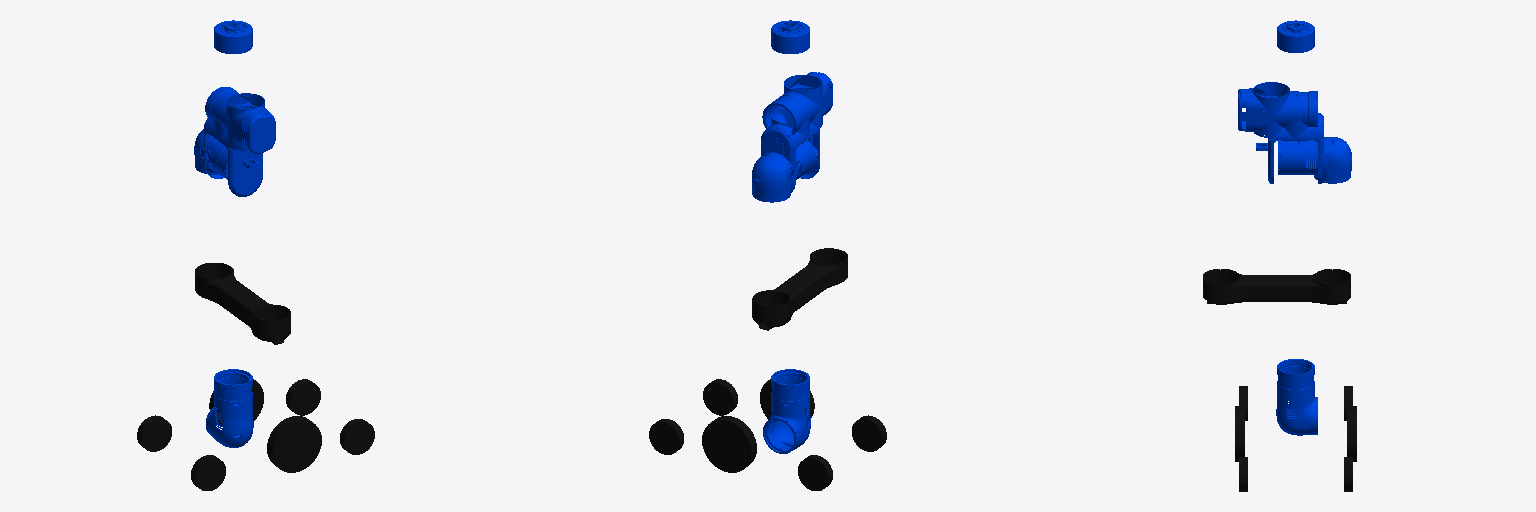
--- Facts derived from the render (not from the file) ---
The picture shows the robot from 3 angles, left to right: view 1: azimuth 30°, elevation 25°; view 2: azimuth 150°, elevation 25°; view 3: azimuth 270°, elevation 25°; orthographic projection.
Robot: relax_xbot2 — 29 links, 28 joints (7 revolute, 10 continuous, 2 prismatic, 9 fixed); root link world; default pose: all joints at 0.
Links seen in each view (by area): view 1: relax_arm1_link2, relax_arm1_link5, relax_arm1_link1, right_wheel_link, relax_arm1_link4, relax_arm1_link6, relax_arm1_link3, br_caster_wheel_link, bl_caster_wheel_link, fl_caster_wheel_link, fr_caster_wheel_link; view 2: relax_arm1_link2, relax_arm1_link1, relax_arm1_link5, left_wheel_link, relax_arm1_link3, relax_arm1_link4, relax_arm1_link6, bl_caster_wheel_link, br_caster_wheel_link, fl_caster_wheel_link, fr_caster_wheel_link; view 3: relax_arm1_link2, relax_arm1_link5, relax_arm1_link1, relax_arm1_link3, relax_arm1_link4, relax_arm1_link6, left_wheel_link, right_wheel_link.
Link boxes in pixels (x1=…): relax_arm1_link2: x1=195, y1=263, x2=290, y2=344; relax_arm1_link5: x1=205, y1=87, x2=275, y2=153; relax_arm1_link1: x1=206, y1=369, x2=253, y2=447; right_wheel_link: x1=267, y1=416, x2=321, y2=472; relax_arm1_link4: x1=203, y1=118, x2=262, y2=196; relax_arm1_link6: x1=214, y1=20, x2=252, y2=53; relax_arm1_link3: x1=194, y1=130, x2=227, y2=179; br_caster_wheel_link: x1=191, y1=455, x2=225, y2=490; bl_caster_wheel_link: x1=137, y1=415, x2=171, y2=451; fl_caster_wheel_link: x1=286, y1=379, x2=320, y2=415; fr_caster_wheel_link: x1=340, y1=419, x2=374, y2=454; relax_arm1_link2: x1=752, y1=248, x2=847, y2=330; relax_arm1_link1: x1=763, y1=369, x2=810, y2=453; relax_arm1_link5: x1=762, y1=72, x2=832, y2=134; left_wheel_link: x1=702, y1=416, x2=756, y2=472; relax_arm1_link3: x1=752, y1=140, x2=815, y2=202; relax_arm1_link4: x1=761, y1=108, x2=819, y2=192; relax_arm1_link6: x1=771, y1=20, x2=809, y2=53; bl_caster_wheel_link: x1=798, y1=455, x2=832, y2=490; br_caster_wheel_link: x1=852, y1=415, x2=886, y2=451; fl_caster_wheel_link: x1=649, y1=419, x2=683, y2=454; fr_caster_wheel_link: x1=703, y1=379, x2=737, y2=415; relax_arm1_link2: x1=1203, y1=269, x2=1350, y2=304; relax_arm1_link5: x1=1238, y1=82, x2=1317, y2=137; relax_arm1_link1: x1=1276, y1=359, x2=1317, y2=435; relax_arm1_link3: x1=1278, y1=137, x2=1351, y2=183; relax_arm1_link4: x1=1256, y1=113, x2=1323, y2=183; relax_arm1_link6: x1=1277, y1=20, x2=1314, y2=52; left_wheel_link: x1=1347, y1=406, x2=1356, y2=461; right_wheel_link: x1=1235, y1=406, x2=1244, y2=461.
Bounding box of the posed robot: 0.7247 × 0.5562 × 1.66 m (x, y, z).
6 mesh visuals loaded from 9 distinct referenced files (6 binary STL); not drawn: 7 (reference not matched to a file when rendering).

URDF robot description (relax_xbot2):
<?xml version="1.0" ?>
<!-- =================================================================================== -->
<!-- |    This document was autogenerated by xacro from [local-path]/src/forest_ws/src/iit-relax-ros-pkg/relax_urdf/urdf/relax_xbot2.urdf.xacro | -->
<!-- |    EDITING THIS FILE BY HAND IS NOT RECOMMENDED                                 | -->
<!-- =================================================================================== -->
<robot name="relax_xbot2">
  <!-- ************SELECT PARTS*************-->
  <!-- *************************************-->
  <!-- color -->
  <material name="darkblue">
    <color rgba="0.0 0.3 0.9 1"/>
  </material>
  <material name="dark">
    <color rgba="0.1 0.1 0.1 1"/>
  </material>
  <!-- ARM -->
  <!-- ARM -->
  <!-- ARM -->
  <!-- ARM -->
  <!-- links -->
  <link name="relax_arm1_link1">
    <!-- link 1 -->
    <inertial>
      <origin xyz="-0.0018991406 0.022645162 0.16741297"/>
      <mass value="6.2381702"/>
      <inertia ixx="0.065816037" ixy="-0.00011791629" ixz="-4.0067927e-05" iyy="0.057828314" iyz="-0.011584403" izz="0.01940196"/>
    </inertial>
    <visual>
      <origin rpy="0 0 0" xyz="0 0 0"/>
      <geometry name="relax_link1_visual">
        <mesh filename="package://relax_urdf/meshes/mesh_link1.stl" scale="0.001 0.001 0.001"/>
      </geometry>
      <material name="darkblue"/>
    </visual>
    <collision>
      <origin rpy="0 0 0" xyz="0 0 0"/>
      <geometry name="relax_link1_collision">
        <mesh filename="package://relax_urdf/meshes/mesh_link1.stl" scale="0.001 0.001 0.001"/>
      </geometry>
    </collision>
  </link>
  <link name="relax_arm1_link2">
    <!-- link 2 -->
    <inertial>
      <origin xyz="-3.1494342e-05 -0.20005579 -0.0057041875"/>
      <mass value="2.601371"/>
      <inertia ixx="0.064570453" ixy="-0.00019926537999999998" ixz="-1.6866045999999998e-06" iyy="0.0051512542" iyz="-2.9627309e-06" izz="0.06672465300000001"/>
    </inertial>
    <visual>
      <origin rpy="0 0 0" xyz="0 0 0"/>
      <geometry name="relax_link2_visual">
        <mesh filename="package://relax_urdf/meshes/mesh_link2.stl" scale="0.001 0.001 0.001"/>
      </geometry>
      <material name="dark"/>
    </visual>
    <collision>
      <origin rpy="0 0 0" xyz="0 0 0"/>
      <geometry name="relax_link2_collision">
        <mesh filename="package://relax_urdf/meshes/mesh_link2.stl" scale="0.001 0.001 0.001"/>
      </geometry>
    </collision>
  </link>
  <link name="relax_arm1_link3">
    <!-- link 3 -->
    <inertial>
      <origin xyz="0.0020858498 -0.078452653 -0.10797347"/>
      <mass value="5.9482803"/>
      <inertia ixx="0.062877846" ixy="0.00011665783" ixz="0.00012931181" iyy="0.018390664" iyz="-0.011034081" izz="0.055056825999999996"/>
    </inertial>
    <visual>
      <origin rpy="0 0 0" xyz="0 0 0"/>
      <geometry name="relax_link3_visual">
        <mesh filename="package://relax_urdf/meshes/mesh_link3.stl" scale="0.001 0.001 0.001"/>
      </geometry>
      <material name="darkblue"/>
    </visual>
    <collision>
      <origin rpy="0 0 0" xyz="0 0 0"/>
      <geometry name="relax_link3_collision">
        <mesh filename="package://relax_urdf/meshes/mesh_link3.stl" scale="0.001 0.001 0.001"/>
      </geometry>
    </collision>
  </link>
  <link name="relax_arm1_link4">
    <!-- link 4 -->
    <inertial>
      <origin xyz="0.00096471566 -0.0042586853 0.046169896"/>
      <mass value="1.6710337"/>
      <inertia ixx="0.017329393999999998" ixy="0.00021094011" ixz="-0.00024511391" iyy="0.010036060999999999" iyz="0.00042230531" izz="0.012350325"/>
    </inertial>
    <visual>
      <origin rpy="0 0 0" xyz="0 0 0"/>
      <geometry name="relax_link4_visual">
        <mesh filename="package://relax_urdf/meshes/mesh_link4.stl" scale="0.001 0.001 0.001"/>
      </geometry>
      <material name="darkblue"/>
    </visual>
    <collision>
      <origin rpy="0 0 0" xyz="0 0 0"/>
      <geometry name="relax_link4_collision">
        <mesh filename="package://relax_urdf/meshes/mesh_link4.stl" scale="0.001 0.001 0.001"/>
      </geometry>
    </collision>
  </link>
  <link name="relax_arm1_link5">
    <!-- link 5 -->
    <inertial>
      <origin xyz="-0.0013991722 0.052618238 -0.08425954199999999"/>
      <mass value="6.181102"/>
      <inertia ixx="0.059736008" ixy="-0.00014975682" ixz="-5.2815066e-05" iyy="0.015244194999999999" iyz="0.0011994937999999999" izz="0.055701504"/>
    </inertial>
    <visual>
      <origin rpy="0 0 0" xyz="0 0 0"/>
      <geometry name="relax_link5_visual">
        <mesh filename="package://relax_urdf/meshes/mesh_link5.stl" scale="0.001 0.001 0.001"/>
      </geometry>
      <material name="darkblue"/>
    </visual>
    <collision>
      <origin rpy="0 0 0" xyz="0 0 0"/>
      <geometry name="relax_link5_collision">
        <mesh filename="package://relax_urdf/meshes/mesh_link5.stl" scale="0.001 0.001 0.001"/>
      </geometry>
    </collision>
  </link>
  <link name="relax_arm1_link6">
    <!-- link 6 -->
    <inertial>
      <origin xyz="0.0005687903199999999 0.0 0.0022653642000000002"/>
      <mass value="0.48141935"/>
      <inertia ixx="0.0008220642" ixy="1.0675057e-07" ixz="3.5319177e-07" iyy="0.00083596992" iyz="0.0" izz="0.0012890535"/>
    </inertial>
    <visual>
      <origin rpy="0 0 0" xyz="0 0 0"/>
      <geometry name="relax_link6_visual">
        <mesh filename="package://relax_urdf/meshes/mesh_link6.stl" scale="0.001 0.001 0.001"/>
      </geometry>
      <material name="darkblue"/>
    </visual>
    <collision>
      <origin rpy="0 0 0" xyz="0 0 0"/>
      <geometry name="relax_link6_collision">
        <mesh filename="package://relax_urdf/meshes/mesh_link6.stl" scale="0.001 0.001 0.001"/>
      </geometry>
    </collision>
  </link>
  <link name="relax_arm1_linkEndEffector"/>
  <!-- link End-Effector -->
  <!-- joints -->
  <joint name="relax_arm1_joint0" type="revolute">
    <!-- joint 1 -->
    <parent link="base_link"/>
    <child link="relax_arm1_link1"/>
    <origin rpy="0.0 0.0 0.0" xyz="-0.13 0.0 0.3613"/>
    <axis xyz="0 0 1"/>
    <limit effort="147.0" lower="-3.14" upper="3.14" velocity="3.86"/>
    <dynamics damping="0.2" friction="10.0"/>
  </joint>
  <joint name="relax_arm1_joint1" type="revolute">
    <!-- joint 1 -->
    <parent link="relax_arm1_link1"/>
    <child link="relax_arm1_link2"/>
    <origin rpy="-1.5707963 0.0 0.0" xyz="0.0 0.13166 0.24966"/>
    <axis xyz="0 0 1"/>
    <limit effort="147.0" lower="-3.14" upper="3.14" velocity="3.86"/>
    <dynamics damping="0.2" friction="10.0"/>
  </joint>
  <joint name="relax_arm1_joint2" type="revolute">
    <!-- joint 2 -->
    <parent link="relax_arm1_link2"/>
    <child link="relax_arm1_link3"/>
    <origin rpy="0.0 0.0 0.0" xyz="0.0 -0.4 0.0"/>
    <axis xyz="0 0 1"/>
    <limit effort="147.0" lower="-3.14" upper="3.14" velocity="3.86"/>
    <dynamics damping="0.2" friction="10.0"/>
  </joint>
  <joint name="relax_arm1_joint3" type="revolute">
    <!-- joint 3 -->
    <parent link="relax_arm1_link3"/>
    <child link="relax_arm1_link4"/>
    <origin rpy="1.5707963 0.0 0.0" xyz="0.0 -0.24966 -0.13166"/>
    <axis xyz="0 0 1"/>
    <limit effort="147.0" lower="-3.14" upper="3.14" velocity="3.86"/>
    <dynamics damping="0.2" friction="10.0"/>
  </joint>
  <joint name="relax_arm1_joint4" type="revolute">
    <!-- joint 4 -->
    <parent link="relax_arm1_link4"/>
    <child link="relax_arm1_link5"/>
    <origin rpy="1.5707963 0.0 0.0" xyz="0.0 -0.08816 0.1535"/>
    <axis xyz="0 0 1"/>
    <limit effort="147.0" lower="-3.14" upper="3.14" velocity="3.86"/>
    <dynamics damping="0.2" friction="10.0"/>
  </joint>
  <joint name="relax_arm1_joint5" type="revolute">
    <!-- joint 5 -->
    <parent link="relax_arm1_link5"/>
    <child link="relax_arm1_link6"/>
    <origin rpy="-1.5707963 0.0 0.0" xyz="0.0 0.22216 -0.08816"/>
    <axis xyz="0 0 1"/>
    <limit effort="147.0" lower="-3.14" upper="3.14" velocity="3.86"/>
    <dynamics damping="0.2" friction="10.0"/>
  </joint>
  <joint name="relax_arm1_joint6" type="fixed">
    <!-- joint 6 fake -->
    <parent link="relax_arm1_link6"/>
    <child link="relax_arm1_linkEndEffector"/>
    <origin rpy="0.0 0.0 0.0" xyz="0.0 0.0 0.028"/>
    <axis xyz="0 0 1"/>
    <limit effort="147.0" lower="-3.14" upper="3.14" velocity="3.86"/>
    <dynamics damping="0.2" friction="10.0"/>
  </joint>
  <!-- end_effector attached -->
  <!-- <xacro:if value="${ADD_END_EFFECTOR}">
      <xacro:include filename="$(find relax_urdf)/urdf/parts/end_effector.urdf.xacro" />

      <xacro:end_effector arm_num="1"  parent_link="arm1_7">
                  <origin xyz="0. 0. 0." rpy="0. 0. 0."/>
      </xacro:end_effector>

      <xacro:end_effector arm_num="2"  parent_link="arm2_7">
                  <origin xyz="0. 0. 0." rpy="0. 0. 0."/>
      </xacroend_effector>
</xacro:if> -->
  <link name="base_footprint"/>
  <joint name="base_joint" type="fixed">
    <parent link="base_footprint"/>
    <child link="base_link"/>
    <origin rpy="0 0 0" xyz="0 0 0"/>
  </joint>
  <link name="base_link">
    <inertial>
      <mass value="97.0"/>
      <origin rpy="0 0 0" xyz="-0.054485000000000006 0.0 0.15"/>
      <inertia ixx="1.050832913" ixy="0.0" ixz="0.0" iyy="2.344165729" iyz="0.0" izz="2.7483322339999994"/>
    </inertial>
    <visual>
      <origin rpy="0 0 0" xyz="-0.004485 0 0"/>
      <geometry>
        <mesh filename="package://relax_urdf/meshes/mesh_base_revised.stl" scale="0.001 0.001 0.001"/>
      </geometry>
      <material name="dark_grey">
        <color rgba="0.3 0.3 0.3 1"/>
      </material>
    </visual>
    <collision>
      <origin rpy="0 0 0" xyz="-0.004485 0 0"/>
      <geometry>
        <mesh filename="package://relax_urdf/meshes/mesh_base_revised.stl" scale="0.001 0.001 0.001"/>
      </geometry>
    </collision>
  </link>
  <gazebo reference="base_link">
    <material>Gazebo/DarkGrey</material>
  </gazebo>
  <!-- IMU -->
  <joint name="base_link_to_imu_joint" type="fixed">
    <parent link="base_link"/>
    <child link="imu_link"/>
    <origin rpy="0 0 0" xyz="0.0 0.0 0.25"/>
    <!-- same as real MiR -->
  </joint>
  <link name="imu_link"/>
  <gazebo>
    <plugin filename="libhector_gazebo_ros_imu.so" name="imu_plugin">
      <updateRate>50.0</updateRate>
      <bodyName>imu_link</bodyName>
      <frameId>imu_frame</frameId>
      <!-- from real MiR -->
      <topicName>imu_data</topicName>
      <accelDrift>0.0 0.0 0.0</accelDrift>
      <accelGaussianNoise>0.007071067811865475 0.01 0.011401754250991379</accelGaussianNoise>
      <!-- real MiR linear_acceleration_covariance: [5e-05, 0.0, 0.0, 0.0, 0.0001, 0.0, 0.0, 0.0, 0.00013] -->
      <rateDrift>0.0 0.0 0.0</rateDrift>
      <rateGaussianNoise>0.00282842712474619 0.00282842712474619 0.0005477225575051661</rateGaussianNoise>
      <!-- real MiR angular_velocity_covariance: [8e-06, 0.0, 0.0, 0.0, 8e-06, 0.0, 0.0, 0.0, 3e-07] -->
      <yawDrift>0.0</yawDrift>
      <yawGaussianNoise>0.31622776601683794</yawGaussianNoise>
      <!-- real MiR orientation_covariance: [0.1, 0.0, 0.0, 0.0, 0.1, 0.0, 0.0, 0.0, 0.1] -->
    </plugin>
  </gazebo>
  <!-- Create an alias for imu_link. This is necessary because the real MiR's
         TF has imu_link, but the imu_data topic is published in the imu_frame
         frame. -->
  <joint name="imu_link_to_imu_frame_joint" type="fixed">
    <parent link="imu_link"/>
    <child link="imu_frame"/>
    <origin rpy="0 0 0" xyz="0 0 0"/>
  </joint>
  <link name="imu_frame"/>
  <!-- Laser scanners -->
  <joint name="base_link_to_front_laser_joint" type="fixed">
    <parent link="base_link"/>
    <child link="front_laser_link"/>
    <origin rpy="0.0 0.0 0.7853981633974483" xyz="0.310515 0.205 0.1914"/>
  </joint>
  <link name="front_laser_link">
    <visual>
      <origin rpy="3.141592653589793 0 0" xyz="0.0 0.0 0.0"/>
      <geometry>
        <mesh filename="package://relax_urdf/meshes/sick_lms-100.stl"/>
      </geometry>
      <!-- <xacro:insert_block name="material_yellow" /> -->
      <material name="black">
        <color rgba="0.1 0.1 0.1 1"/>
      </material>
    </visual>
    <collision>
      <origin rpy="3.141592653589793 0 0" xyz="0.0 0.0 0.0"/>
      <geometry>
        <mesh filename="package://relax_urdf/meshes/sick_lms-100.stl"/>
      </geometry>
    </collision>
    <inertial>
      <mass value="1.2"/>
      <origin xyz="0 0 0"/>
      <inertia ixx="0.005824997669999999" ixy="0.0" ixz="0.0" iyy="0.00585609765756" iyz="0.0" izz="0.00483609806556"/>
    </inertial>
  </link>
  <gazebo reference="front_laser_link">
    <!-- <material value="Gazebo/Yellow" /> -->
    <material value="Gazebo/FlatBlack"/>
    <sensor name="front_laser_link" type="ray">
      <pose>0 0 0 0 0 0</pose>
      <visualize>false</visualize>
      <update_rate>12.5</update_rate>
      <ray>
        <scan>
          <horizontal>
            <samples>541</samples>
            <resolution>1</resolution>
            <!-- has to be 1; actual resolution will be computed from number of samples + min_angle/max_angle -->
            <min_angle>-2.35619449615</min_angle>
            <max_angle>2.35619449615</max_angle>
          </horizontal>
        </scan>
        <range>
          <min>0.05</min>
          <max>29.0</max>
          <resolution>0.01</resolution>
        </range>
        <noise>
          <type>gaussian</type>
          <!-- Noise parameters based on published spec for S300 achieving
                 "+-29mm" accuracy at range < 3m (~0.01 of the range) at
                 1 sigma. -->
          <mean>0.0</mean>
          <stddev>0.01</stddev>
        </noise>
      </ray>
      <plugin filename="libgazebo_ros_laser.so" name="gazebo_ros_front_laser_link_controller">
        <frameName>front_laser_link</frameName>
        <topicName>f_scan</topicName>
      </plugin>
    </sensor>
  </gazebo>
  <joint name="base_link_to_back_laser_joint" type="fixed">
    <parent link="base_link"/>
    <child link="back_laser_link"/>
    <origin rpy="0.0 0.0 -2.356194490192345" xyz="-0.319485 -0.205 0.1914"/>
  </joint>
  <link name="back_laser_link">
    <visual>
      <origin rpy="3.141592653589793 0 0" xyz="0.0 0.0 0.0"/>
      <geometry>
        <mesh filename="package://relax_urdf/meshes/sick_lms-100.stl"/>
      </geometry>
      <!-- <xacro:insert_block name="material_yellow" /> -->
      <material name="black">
        <color rgba="0.1 0.1 0.1 1"/>
      </material>
    </visual>
    <collision>
      <origin rpy="3.141592653589793 0 0" xyz="0.0 0.0 0.0"/>
      <geometry>
        <mesh filename="package://relax_urdf/meshes/sick_lms-100.stl"/>
      </geometry>
    </collision>
    <inertial>
      <mass value="1.2"/>
      <origin xyz="0 0 0"/>
      <inertia ixx="0.005824997669999999" ixy="0.0" ixz="0.0" iyy="0.00585609765756" iyz="0.0" izz="0.00483609806556"/>
    </inertial>
  </link>
  <gazebo reference="back_laser_link">
    <!-- <material value="Gazebo/Yellow" /> -->
    <material value="Gazebo/FlatBlack"/>
    <sensor name="back_laser_link" type="ray">
      <pose>0 0 0 0 0 0</pose>
      <visualize>false</visualize>
      <update_rate>12.5</update_rate>
      <ray>
        <scan>
          <horizontal>
            <samples>541</samples>
            <resolution>1</resolution>
            <!-- has to be 1; actual resolution will be computed from number of samples + min_angle/max_angle -->
            <min_angle>-2.35619449615</min_angle>
            <max_angle>2.35619449615</max_angle>
          </horizontal>
        </scan>
        <range>
          <min>0.05</min>
          <max>29.0</max>
          <resolution>0.01</resolution>
        </range>
        <noise>
          <type>gaussian</type>
          <!-- Noise parameters based on published spec for S300 achieving
                 "+-29mm" accuracy at range < 3m (~0.01 of the range) at
                 1 sigma. -->
          <mean>0.0</mean>
          <stddev>0.01</stddev>
        </noise>
      </ray>
      <plugin filename="libgazebo_ros_laser.so" name="gazebo_ros_back_laser_link_controller">
        <frameName>back_laser_link</frameName>
        <topicName>b_scan</topicName>
      </plugin>
    </sensor>
  </gazebo>
  <!-- Ultrasound sensors -->
  <joint name="us_1_joint" type="fixed">
    <!-- right ultrasound -->
    <parent link="base_link"/>
    <child link="us_1_frame"/>
    <origin rpy="0 0 0" xyz="0.45 -0.12 0.16 "/>
    <!-- from visually matching to the mesh of the MiR -->
  </joint>
  <link name="us_1_frame"/>
  <joint name="us_2_joint" type="fixed">
    <!-- left ultrasound -->
    <parent link="base_link"/>
    <child link="us_2_frame"/>
    <origin rpy="0 0 0" xyz="0.45 0.12 0.16 "/>
    <!-- from visually matching to the mesh of the MiR -->
  </joint>
  <link name="us_2_frame"/>
  <!-- HACK: manually defining fake joints for cartesian control -->
  <link name="world"/>
  <joint name="lin_x_joint" type="prismatic">
    <parent link="world"/>
    <child link="lin_x_link"/>
    <limit effort="100" lower="-1e9" upper="1e9" velocity="2"/>
    <axis xyz="1 0 0"/>
  </joint>
  <joint name="lin_y_joint" type="prismatic">
    <parent link="lin_x_link"/>
    <child link="lin_y_link"/>
    <limit effort="100" lower="-1e9" upper="1e9" velocity="2"/>
    <axis xyz="0 1 0"/>
  </joint>
  <joint name="rot_z_joint" type="revolute">
    <parent link="lin_y_link"/>
    <child link="base_footprint"/>
    <limit effort="100" lower="-1e9" upper="1e9" velocity="2"/>
    <axis xyz="0 0 1"/>
  </joint>
  <link name="lin_x_link">
    <inertial>
      <mass value="0.01"/>
      <origin xyz="0 0 0"/>
      <inertia ixx="0.0001" ixy="0.0" ixz="0.0" iyy="0.0001" iyz="0.0" izz="0.0001"/>
    </inertial>
  </link>
  <link name="lin_y_link">
    <inertial>
      <mass value="0.01"/>
      <origin xyz="0 0 0"/>
      <inertia ixx="0.0001" ixy="0.0" ixz="0.0" iyy="0.0001" iyz="0.0" izz="0.0001"/>
    </inertial>
  </link>
  <joint name="left_wheel_joint" type="continuous">
    <origin rpy="0 0 0" xyz="0.0 0.2015 0.1"/>
    <parent link="base_link"/>
    <child link="left_wheel_link"/>
    <axis xyz="0 1 0"/>
    <limit effort="100" velocity="20.0"/>
  </joint>
  <link name="left_wheel_link">
    <inertial>
      <mass value="1.0"/>
      <origin rpy="0 0 0" xyz="0 0 0"/>
      <inertia ixx="0.0026203322852000007" ixy="0.0" ixz="0.0" iyy="0.0026203322852000007" iyz="0.0" izz="0.005000000000000001"/>
    </inertial>
    <visual>
      <origin rpy="1.5707963267948966 0 0" xyz="0 0 0"/>
      <geometry>
        <cylinder length="0.038" radius="0.1"/>
      </geometry>
      <material name="black">
        <color rgba="0.1 0.1 0.1 1"/>
      </material>
    </visual>
    <collision>
      <origin rpy="1.5707963267948966 0 0" xyz="0 0 0"/>
      <geometry>
        <cylinder length="0.038" radius="0.1"/>
      </geometry>
    </collision>
  </link>
  <gazebo reference="left_wheel_link">
    <material>Gazebo/FlatBlack</material>
  </gazebo>
  <joint name="right_wheel_joint" type="continuous">
    <origin rpy="0 0 0" xyz="0.0 -0.2015 0.1"/>
    <parent link="base_link"/>
    <child link="right_wheel_link"/>
    <axis xyz="0 1 0"/>
    <limit effort="100" velocity="20.0"/>
  </joint>
  <link name="right_wheel_link">
    <inertial>
      <mass value="1.0"/>
      <origin rpy="0 0 0" xyz="0 0 0"/>
      <inertia ixx="0.0026203322852000007" ixy="0.0" ixz="0.0" iyy="0.0026203322852000007" iyz="0.0" izz="0.005000000000000001"/>
    </inertial>
    <visual>
      <origin rpy="1.5707963267948966 0 0" xyz="0 0 0"/>
      <geometry>
        <cylinder length="0.038" radius="0.1"/>
      </geometry>
      <material name="black">
        <color rgba="0.1 0.1 0.1 1"/>
      </material>
    </visual>
    <collision>
      <origin rpy="1.5707963267948966 0 0" xyz="0 0 0"/>
      <geometry>
        <cylinder length="0.038" radius="0.1"/>
      </geometry>
    </collision>
  </link>
  <gazebo reference="right_wheel_link">
    <material>Gazebo/FlatBlack</material>
  </gazebo>
  <!-- caster hub -->
  <joint name="fl_caster_rotation_joint" type="continuous">
    <origin rpy="0 0 0" xyz="0.299215 0.188 0.1565"/>
    <parent link="base_link"/>
    <child link="fl_caster_rotation_link"/>
    <axis xyz="0 0 1"/>
    <dynamics damping="0.01" friction="0.0"/>
  </joint>
  <link name="fl_caster_rotation_link">
    <inertial>
      <!-- <origin xyz="0 0 -0.042500000044" rpy="${0.5 * pi} ${24 * deg_to_rad} ${1.5 * pi}" /> -->
      <origin rpy="0 0 0" xyz="0 0 -0.042500000044"/>
      <!-- ${24 * deg_to_rad} 0 ${0.5 * pi} -->
      <mass value="0.3097539019"/>
      <inertia ixx="0.0005844517978" ixy="0" ixz="0" iyy="0.00052872551237" iyz="0" izz="0.00017923555074"/>
    </inertial>
    <visual>
      <origin rpy="0 0 0" xyz="0 0 0"/>
      <geometry>
        <mesh filename="package://relax_urdf/meshes/caster_wheel_base.stl"/>
      </geometry>
      <material name="black">
        <color rgba="0.1 0.1 0.1 1"/>
      </material>
    </visual>
    <collision>
      <origin rpy="0 0 0" xyz="0 0 0"/>
      <geometry>
        <mesh filename="package://relax_urdf/meshes/caster_wheel_base.stl"/>
      </geometry>
    </collision>
  </link>
  <gazebo reference="fl_caster_rotation_link">
    <material>Gazebo/FlatBlack</material>
  </gazebo>
  <!-- caster wheel -->
  <joint name="fl_caster_wheel_joint" type="continuous">
    <origin rpy="0 0 0" xyz="-0.0382 0 -0.094"/>
    <parent link="fl_caster_rotation_link"/>
    <child link="fl_caster_wheel_link"/>
    <axis xyz="0 1 0"/>
  </joint>
  <link name="fl_caster_wheel_link">
    <inertial>
      <mass value="1.0"/>
      <origin rpy="0 0 0" xyz="0 0 0"/>
      <inertia ixx="0.001061895408575" ixy="0.0" ixz="0.0" iyy="0.001061895408575" iyz="0.0" izz="0.001953125"/>
    </inertial>
    <visual>
      <origin rpy="1.5707963267948966 0 0" xyz="0 0 0"/>
      <!--${pi/2} 0 0 -->
      <geometry>
        <cylinder length="0.032" radius="0.0625"/>
      </geometry>
      <material name="black">
        <color rgba="0.1 0.1 0.1 1"/>
      </material>
    </visual>
    <collision>
      <origin rpy="1.5707963267948966 0 0" xyz="0 0 0"/>
      <!--${pi/2} 0 0 -->
      <geometry>
        <cylinder length="0.032" radius="0.0625"/>
      </geometry>
    </collision>
  </link>
  <gazebo reference="fl_caster_wheel_link">
    <material>Gazebo/FlatBlack</material>
  </gazebo>
  <!-- caster hub -->
  <joint name="fr_caster_rotation_joint" type="continuous">
    <origin rpy="0 0 0" xyz="0.299215 -0.188 0.1565"/>
    <parent link="base_link"/>
    <child link="fr_caster_rotation_link"/>
    <axis xyz="0 0 1"/>
    <dynamics damping="0.01" friction="0.0"/>
  </joint>
  <link name="fr_caster_rotation_link">
    <inertial>
      <!-- <origin xyz="0 0 -0.042500000044" rpy="${0.5 * pi} ${24 * deg_to_rad} ${1.5 * pi}" /> -->
      <origin rpy="0 0 0" xyz="0 0 -0.042500000044"/>
      <!-- ${24 * deg_to_rad} 0 ${0.5 * pi} -->
      <mass value="0.3097539019"/>
      <inertia ixx="0.0005844517978" ixy="0" ixz="0" iyy="0.00052872551237" iyz="0" izz="0.00017923555074"/>
    </inertial>
    <visual>
      <origin rpy="0 0 0" xyz="0 0 0"/>
      <geometry>
        <mesh filename="package://relax_urdf/meshes/caster_wheel_base.stl"/>
      </geometry>
      <material name="black">
        <color rgba="0.1 0.1 0.1 1"/>
      </material>
    </visual>
    <collision>
      <origin rpy="0 0 0" xyz="0 0 0"/>
      <geometry>
        <mesh filename="package://relax_urdf/meshes/caster_wheel_base.stl"/>
      </geometry>
    </collision>
  </link>
  <gazebo reference="fr_caster_rotation_link">
    <material>Gazebo/FlatBlack</material>
  </gazebo>
  <!-- caster wheel -->
  <joint name="fr_caster_wheel_joint" type="continuous">
    <origin rpy="0 0 0" xyz="-0.0382 0 -0.094"/>
    <parent link="fr_caster_rotation_link"/>
    <child link="fr_caster_wheel_link"/>
    <axis xyz="0 1 0"/>
  </joint>
  <link name="fr_caster_wheel_link">
    <inertial>
      <mass value="1.0"/>
      <origin rpy="0 0 0" xyz="0 0 0"/>
      <inertia ixx="0.001061895408575" ixy="0.0" ixz="0.0" iyy="0.001061895408575" iyz="0.0" izz="0.001953125"/>
    </inertial>
    <visual>
      <origin rpy="1.5707963267948966 0 0" xyz="0 0 0"/>
      <!--${pi/2} 0 0 -->
      <geometry>
        <cylinder length="0.032" radius="0.0625"/>
      </geometry>
      <material name="black">
        <color rgba="0.1 0.1 0.1 1"/>
      </material>
    </visual>
    <collision>
      <origin rpy="1.5707963267948966 0 0" xyz="0 0 0"/>
      <!--${pi/2} 0 0 -->
      <geometry>
        <cylinder length="0.032" radius="0.0625"/>
      </geometry>
    </collision>
  </link>
  <gazebo reference="fr_caster_wheel_link">
    <material>Gazebo/FlatBlack</material>
  </gazebo>
  <!-- caster hub -->
  <joint name="bl_caster_rotation_joint" type="continuous">
    <origin rpy="0 0 0" xyz="-0.300485 0.188 0.1565"/>
    <parent link="base_link"/>
    <child link="bl_caster_rotation_link"/>
    <axis xyz="0 0 1"/>
    <dynamics damping="0.01" friction="0.0"/>
  </joint>
  <link name="bl_caster_rotation_link">
    <inertial>
      <!-- <origin xyz="0 0 -0.042500000044" rpy="${0.5 * pi} ${24 * deg_to_rad} ${1.5 * pi}" /> -->
      <origin rpy="0 0 0" xyz="0 0 -0.042500000044"/>
      <!-- ${24 * deg_to_rad} 0 ${0.5 * pi} -->
      <mass value="0.3097539019"/>
      <inertia ixx="0.0005844517978" ixy="0" ixz="0" iyy="0.00052872551237" iyz="0" izz="0.00017923555074"/>
    </inertial>
    <visual>
      <origin rpy="0 0 0" xyz="0 0 0"/>
      <geometry>
        <mesh filename="package://relax_urdf/meshes/caster_wheel_base.stl"/>
      </geometry>
      <material name="black">
        <color rgba="0.1 0.1 0.1 1"/>
      </material>
    </visual>
    <collision>
      <origin rpy="0 0 0" xyz="0 0 0"/>
      <geometry>
        <mesh filename="package://relax_urdf/meshes/caster_wheel_base.stl"/>
      </geometry>
    </collision>
  </link>
  <gazebo reference="bl_caster_rotation_link">
    <material>Gazebo/FlatBlack</material>
  </gazebo>
  <!-- caster wheel -->
  <joint name="bl_caster_wheel_joint" type="continuous">
    <origin rpy="0 0 0" xyz="-0.0382 0 -0.094"/>
    <parent link="bl_caster_rotation_link"/>
    <child link="bl_caster_wheel_link"/>
    <axis xyz="0 1 0"/>
  </joint>
  <link name="bl_caster_wheel_link">
    <inertial>
      <mass value="1.0"/>
      <origin rpy="0 0 0" xyz="0 0 0"/>
      <inertia ixx="0.001061895408575" ixy="0.0" ixz="0.0" iyy="0.001061895408575" iyz="0.0" izz="0.001953125"/>
    </inertial>
    <visual>
      <origin rpy="1.5707963267948966 0 0" xyz="0 0 0"/>
      <!--${pi/2} 0 0 -->
      <geometry>
        <cylinder length="0.032" radius="0.0625"/>
      </geometry>
      <material name="black">
        <color rgba="0.1 0.1 0.1 1"/>
      </material>
    </visual>
    <collision>
      <origin rpy="1.5707963267948966 0 0" xyz="0 0 0"/>
      <!--${pi/2} 0 0 -->
      <geometry>
        <cylinder length="0.032" radius="0.0625"/>
      </geometry>
    </collision>
  </link>
  <gazebo reference="bl_caster_wheel_link">
    <material>Gazebo/FlatBlack</material>
  </gazebo>
  <!-- caster hub -->
  <joint name="br_caster_rotation_joint" type="continuous">
    <origin rpy="0 0 0" xyz="-0.300485 -0.188 0.1565"/>
    <parent link="base_link"/>
    <child link="br_caster_rotation_link"/>
    <axis xyz="0 0 1"/>
    <dynamics damping="0.01" friction="0.0"/>
  </joint>
  <link name="br_caster_rotation_link">
    <inertial>
      <!-- <origin xyz="0 0 -0.042500000044" rpy="${0.5 * pi} ${24 * deg_to_rad} ${1.5 * pi}" /> -->
      <origin rpy="0 0 0" xyz="0 0 -0.042500000044"/>
      <!-- ${24 * deg_to_rad} 0 ${0.5 * pi} -->
      <mass value="0.3097539019"/>
      <inertia ixx="0.0005844517978" ixy="0" ixz="0" iyy="0.00052872551237" iyz="0" izz="0.00017923555074"/>
    </inertial>
    <visual>
      <origin rpy="0 0 0" xyz="0 0 0"/>
      <geometry>
        <mesh filename="package://relax_urdf/meshes/caster_wheel_base.stl"/>
      </geometry>
      <material name="black">
        <color rgba="0.1 0.1 0.1 1"/>
      </material>
    </visual>
    <collision>
      <origin rpy="0 0 0" xyz="0 0 0"/>
      <geometry>
        <mesh filename="package://relax_urdf/meshes/caster_wheel_base.stl"/>
      </geometry>
    </collision>
  </link>
  <gazebo reference="br_caster_rotation_link">
    <material>Gazebo/FlatBlack</material>
  </gazebo>
  <!-- caster wheel -->
  <joint name="br_caster_wheel_joint" type="continuous">
    <origin rpy="0 0 0" xyz="-0.0382 0 -0.094"/>
    <parent link="br_caster_rotation_link"/>
    <child link="br_caster_wheel_link"/>
    <axis xyz="0 1 0"/>
  </joint>
  <link name="br_caster_wheel_link">
    <inertial>
      <mass value="1.0"/>
      <origin rpy="0 0 0" xyz="0 0 0"/>
      <inertia ixx="0.001061895408575" ixy="0.0" ixz="0.0" iyy="0.001061895408575" iyz="0.0" izz="0.001953125"/>
    </inertial>
    <visual>
      <origin rpy="1.5707963267948966 0 0" xyz="0 0 0"/>
      <!--${pi/2} 0 0 -->
      <geometry>
        <cylinder length="0.032" radius="0.0625"/>
      </geometry>
      <material name="black">
        <color rgba="0.1 0.1 0.1 1"/>
      </material>
    </visual>
    <collision>
      <origin rpy="1.5707963267948966 0 0" xyz="0 0 0"/>
      <!--${pi/2} 0 0 -->
      <geometry>
        <cylinder length="0.032" radius="0.0625"/>
      </geometry>
    </collision>
  </link>
  <gazebo reference="br_caster_wheel_link">
    <material>Gazebo/FlatBlack</material>
  </gazebo>
  <joint name="base_link_surface_joint" type="fixed">
    <origin rpy="0 0 0" xyz="-0.004485 0 0.352"/>
    <parent link="base_link"/>
    <child link="surface"/>
    <axis xyz="0 0 1"/>
  </joint>
  <link name="surface"/>
  <transmission name="left_wheel_trans">
    <type>transmission_interface/SimpleTransmission</type>
    <joint name="left_wheel_joint">
      <hardwareInterface>hardware_interface/VelocityJointInterface</hardwareInterface>
    </joint>
    <actuator name="left_wheel_motor">
      <hardwareInterface>hardware_interface/VelocityJointInterface</hardwareInterface>
      <mechanicalReduction>1</mechanicalReduction>
    </actuator>
  </transmission>
  <transmission name="right_wheel_trans">
    <type>transmission_interface/SimpleTransmission</type>
    <joint name="right_wheel_joint">
      <hardwareInterface>hardware_interface/VelocityJointInterface</hardwareInterface>
    </joint>
    <actuator name="right_wheel_motor">
      <hardwareInterface>hardware_interface/VelocityJointInterface</hardwareInterface>
      <mechanicalReduction>1</mechanicalReduction>
    </actuator>
  </transmission>
  <gazebo reference="left_wheel_link">
    <mu1 value="200"/>
    <mu2 value="200"/>
    <kp value="10000000.0"/>
    <kd value="1.0"/>
    <minDepth>0.01</minDepth>
  </gazebo>
  <gazebo reference="right_wheel_link">
    <mu1 value="200"/>
    <mu2 value="200"/>
    <kp value="10000000.0"/>
    <kd value="1.0"/>
    <minDepth>0.01</minDepth>
  </gazebo>
  <gazebo reference="fl_caster_wheel_link">
    <mu1 value="1"/>
    <mu2 value="1"/>
    <kp value="10000000.0"/>
    <kd value="1.0"/>
    <minDepth>0.01</minDepth>
  </gazebo>
  <gazebo reference="fr_caster_wheel_link">
    <mu1 value="1"/>
    <mu2 value="1"/>
    <kp value="10000000.0"/>
    <kd value="1.0"/>
    <minDepth>0.01</minDepth>
  </gazebo>
  <gazebo reference="bl_caster_wheel_link">
    <mu1 value="1"/>
    <mu2 value="1"/>
    <kp value="10000000.0"/>
    <kd value="1.0"/>
    <minDepth>0.01</minDepth>
  </gazebo>
  <gazebo reference="br_caster_wheel_link">
    <mu1 value="1"/>
    <mu2 value="1"/>
    <kp value="10000000.0"/>
    <kd value="1.0"/>
    <minDepth>0.01</minDepth>
  </gazebo>
  <gazebo>
    <plugin filename="libgazebo_ros_p3d.so" name="p3d_base_controller">
      <alwaysOn>true</alwaysOn>
      <updateRate>50.0</updateRate>
      <bodyName>base_footprint</bodyName>
      <topicName>base_pose_ground_truth</topicName>
      <gaussianNoise>0.01</gaussianNoise>
      <frameName>map</frameName>
      <xyzOffsets>0 0 0</xyzOffsets>
      <rpyOffsets>0 0 0</rpyOffsets>
    </plugin>
  </gazebo>
</robot>
